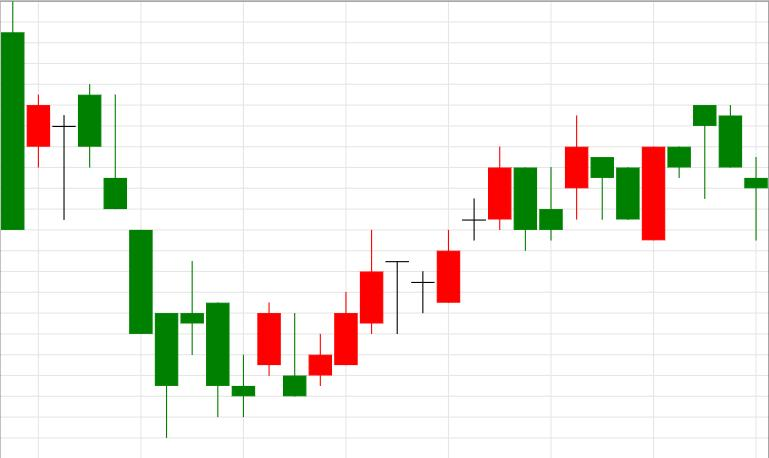morning_star_rise: (52, 82, 281, 438)
